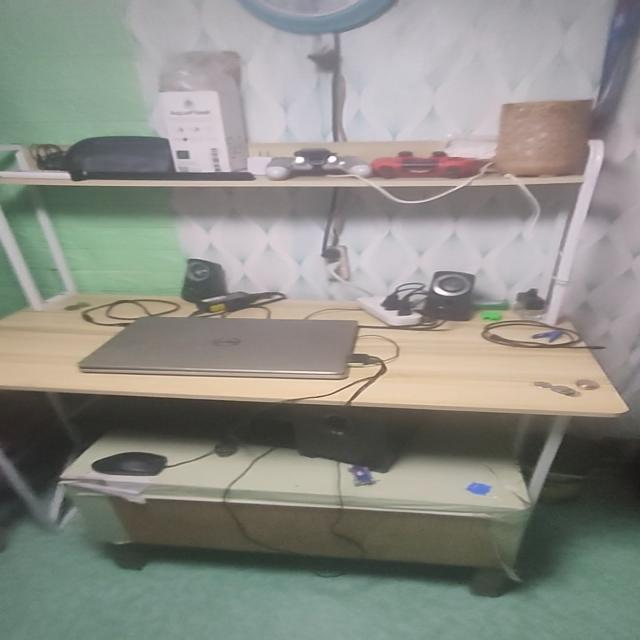table: (0, 280, 640, 595)
